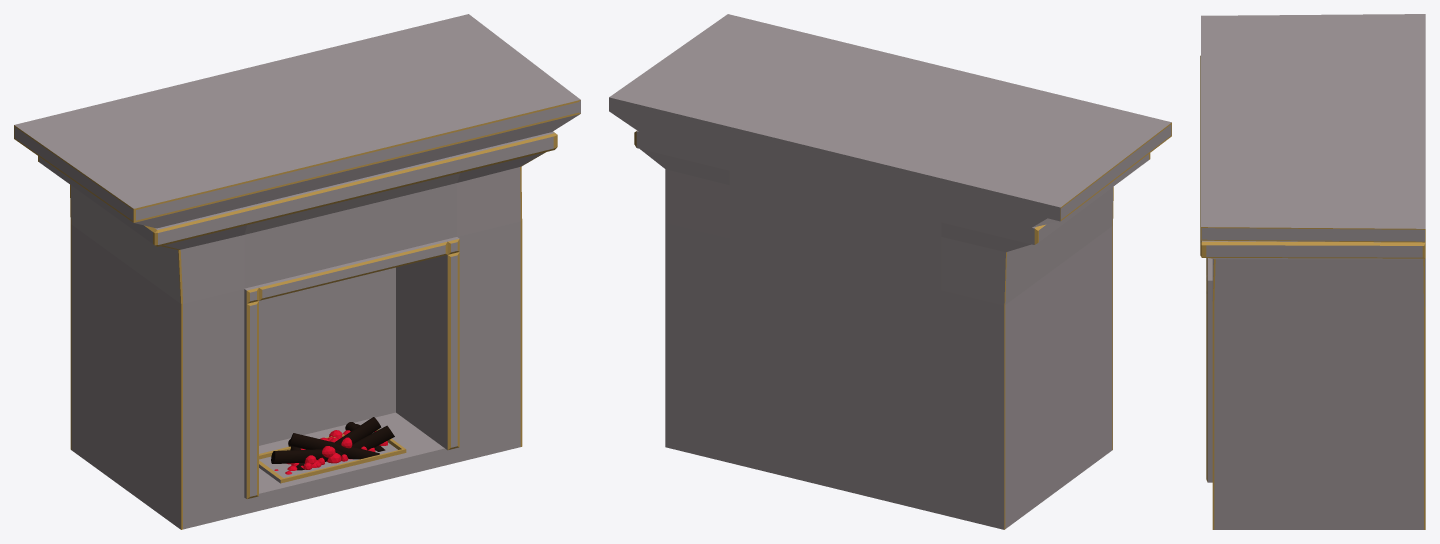
Rendered from fireplace1.fbx.
3 renders of one model, left to right at view 1: azimuth 30°, elevation 25°; view 2: azimuth 150°, elevation 25°; view 3: azimuth 270°, elevation 25°, orthographic. The views are drawn at different scales.
Parts seen in each view (by area): view 1: Icosphere.002; view 2: Icosphere.002; view 3: Icosphere.002.
Part boxes in pixels (<box>): Icosphere.002: <box>14,14,580,529</box>; Icosphere.002: <box>609,14,1171,529</box>; Icosphere.002: <box>1200,14,1425,529</box>.
Size of the model in its own units: 344 by 245 by 152.
